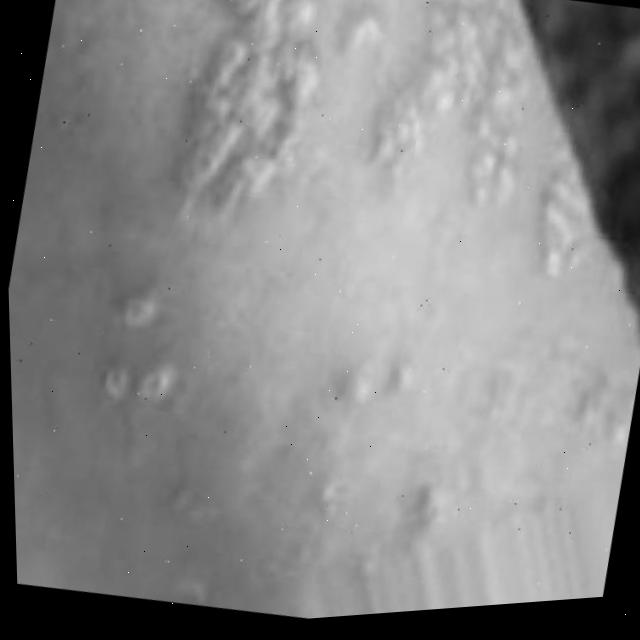Shingles: (109, 0, 630, 333), (81, 278, 206, 426)
